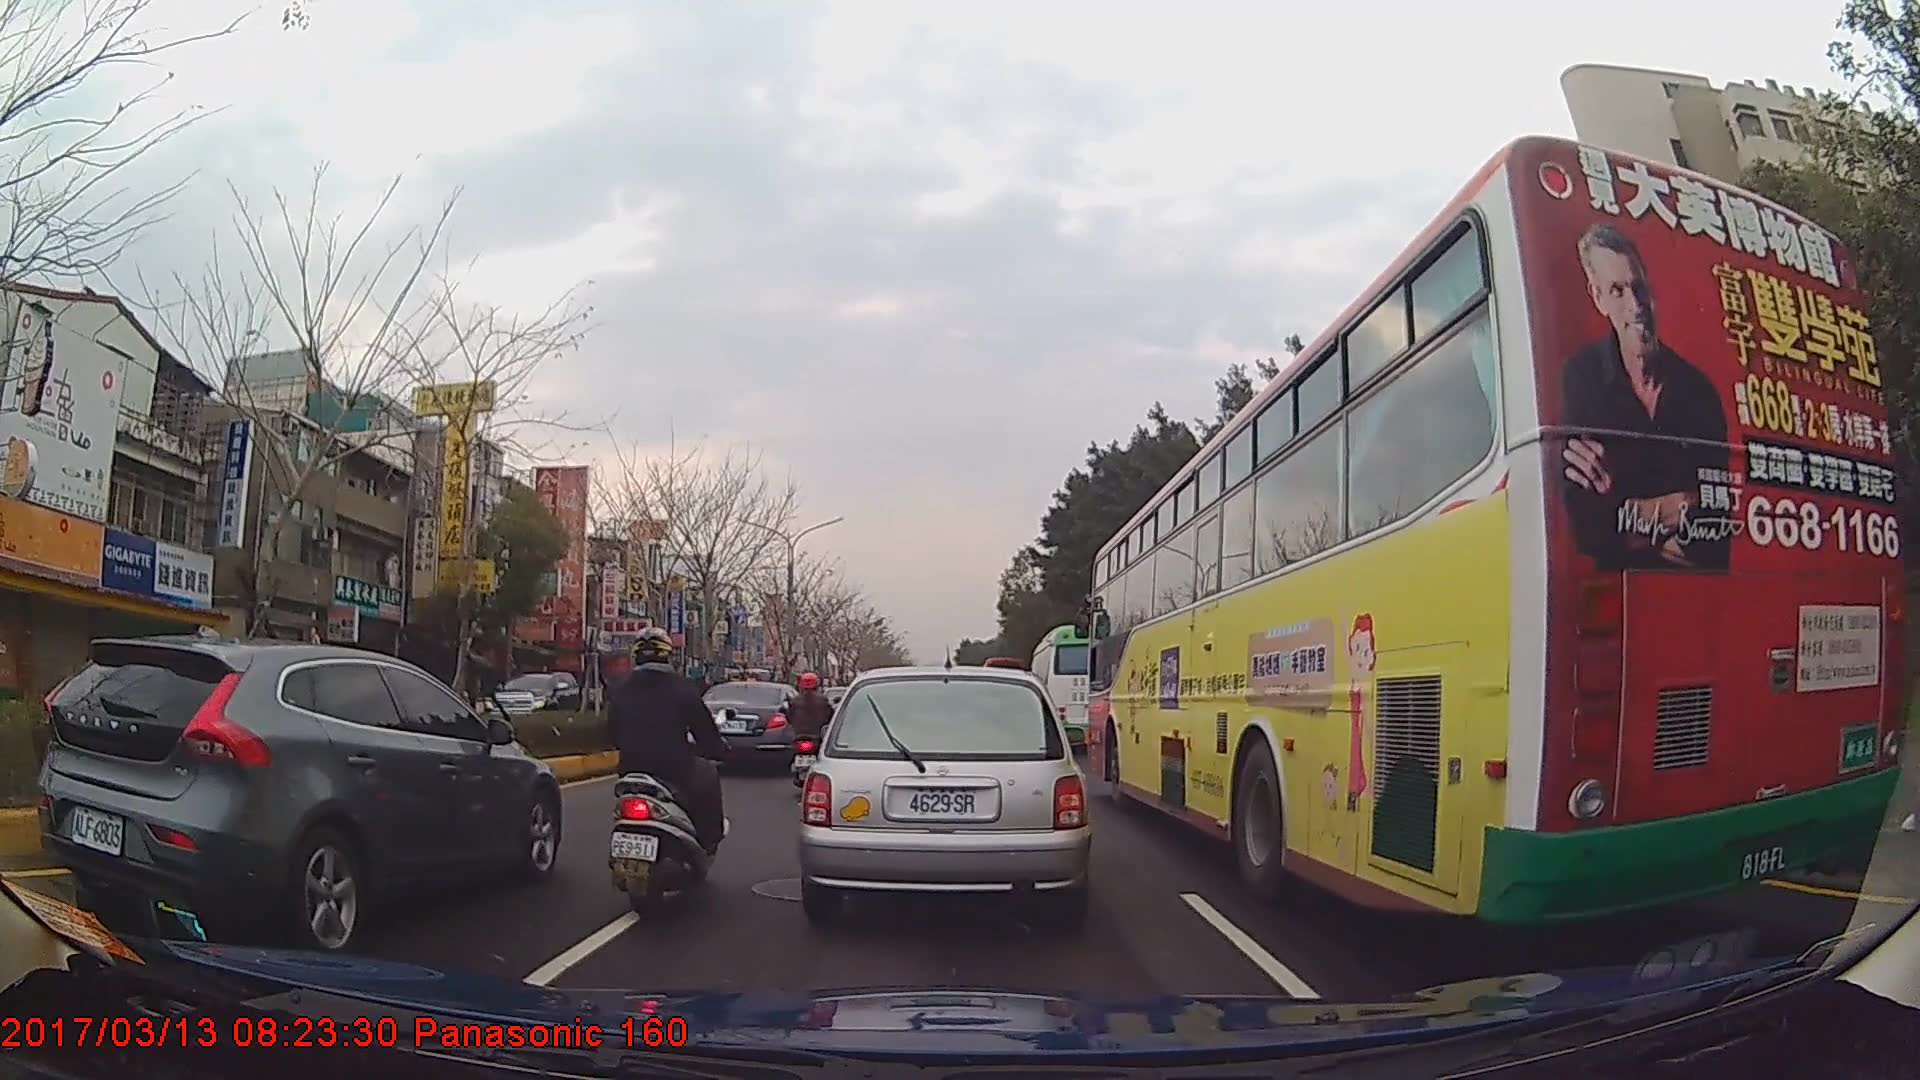rider: (599, 623, 724, 923), (782, 672, 839, 790)
vehicle: (1085, 133, 1908, 935), (35, 634, 561, 957), (799, 663, 1091, 934), (1027, 625, 1118, 749), (692, 679, 812, 773), (481, 668, 599, 731)
